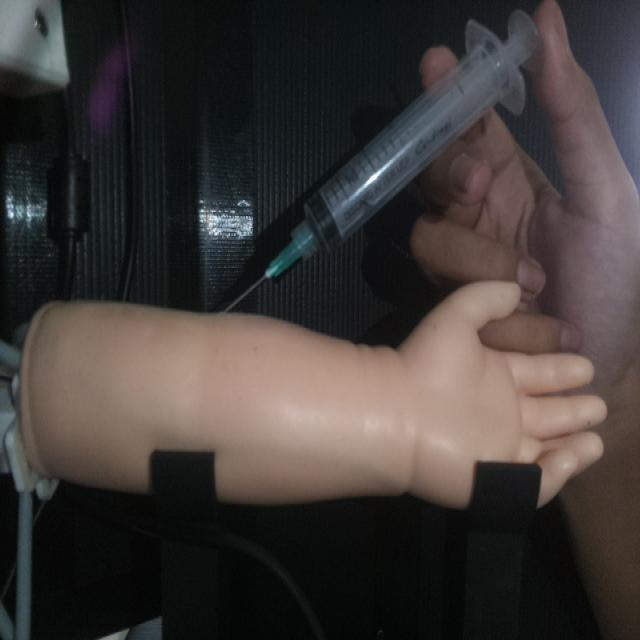Above 30 degrees: (218, 7, 542, 313)
